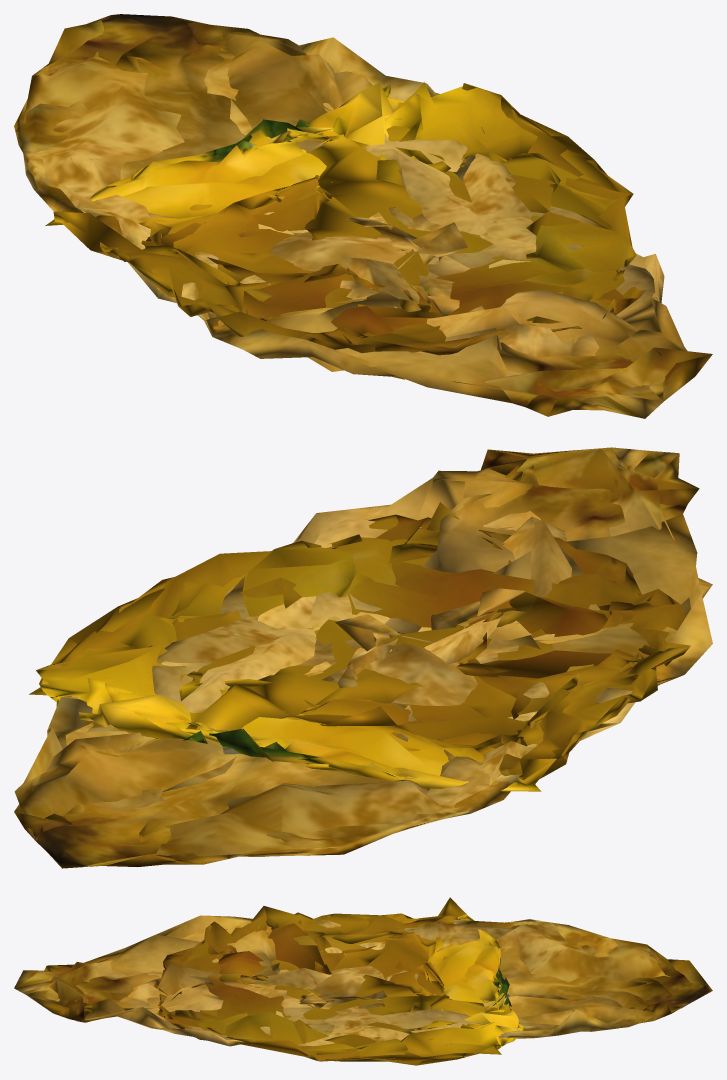
The model's file is Folded_Banana.obj.
The picture shows the model from 3 angles, top to bottom: view 1: azimuth 30°, elevation 25°; view 2: azimuth 150°, elevation 25°; view 3: azimuth 270°, elevation 25°; orthographic projection. The views are drawn at different scales.
Visible parts, largest first — view 1: Folded_Banana_potato; view 2: Folded_Banana_potato; view 3: Folded_Banana_potato.
Part boxes in pixels (bbox=[...]): Folded_Banana_potato: bbox=[14, 14, 712, 418]; Folded_Banana_potato: bbox=[14, 447, 712, 868]; Folded_Banana_potato: bbox=[14, 897, 712, 1065].
Bounding box in the file's own units: 0.7903 × 0.0777 × 1.53.
2 materials, 2 textured.
